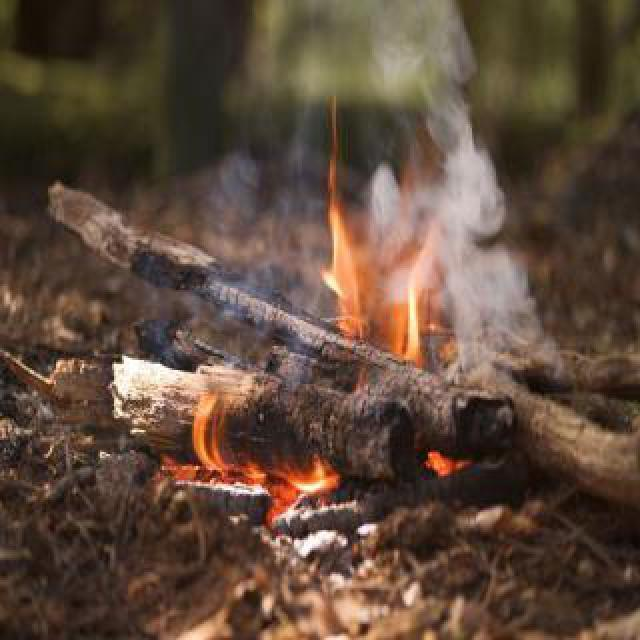Fire: (310, 106, 388, 358), (176, 396, 334, 506), (390, 272, 434, 378)
Smoke: (414, 10, 542, 376)
